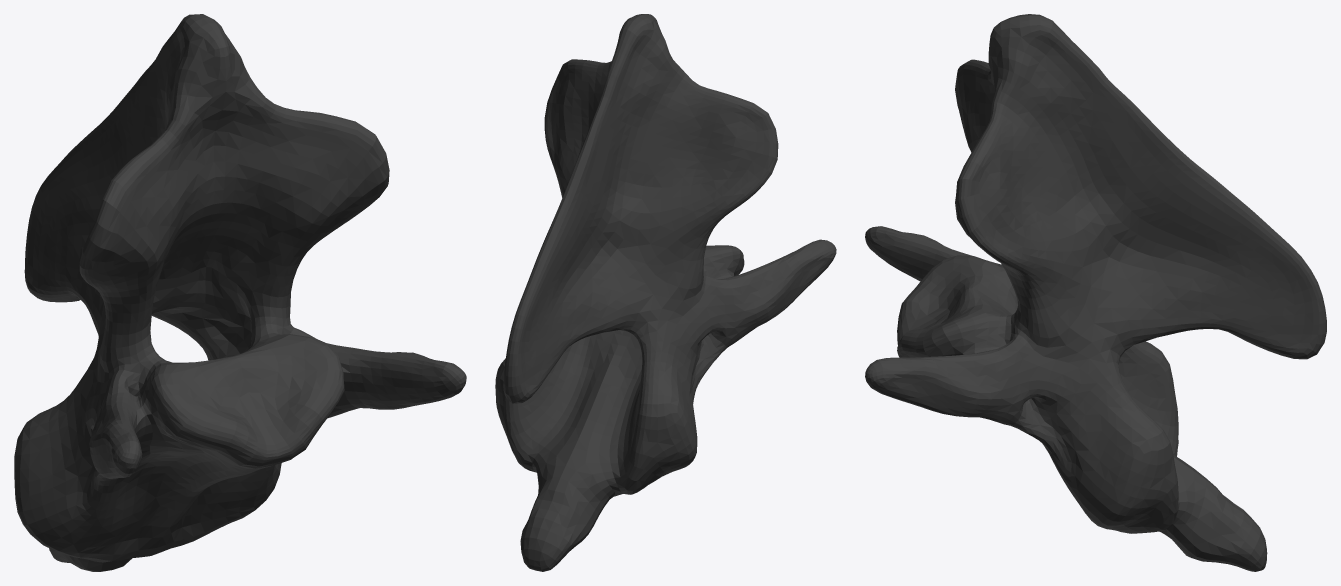
3 renders of one model, left to right at view 1: azimuth 30°, elevation 25°; view 2: azimuth 150°, elevation 25°; view 3: azimuth 270°, elevation 25°, orthographic. The views are drawn at different scales.
Parts seen in each view (by area): view 1: B_C2; view 2: B_C2; view 3: B_C2.
Part boxes in pixels (box(x1,y1,x2,y2)): B_C2: box(14, 14, 466, 571); B_C2: box(495, 14, 836, 571); B_C2: box(865, 14, 1326, 571).
Size of the model in its own units: 0.00233 by 0.00407 by 0.00308.
1 material, 1 textured.
